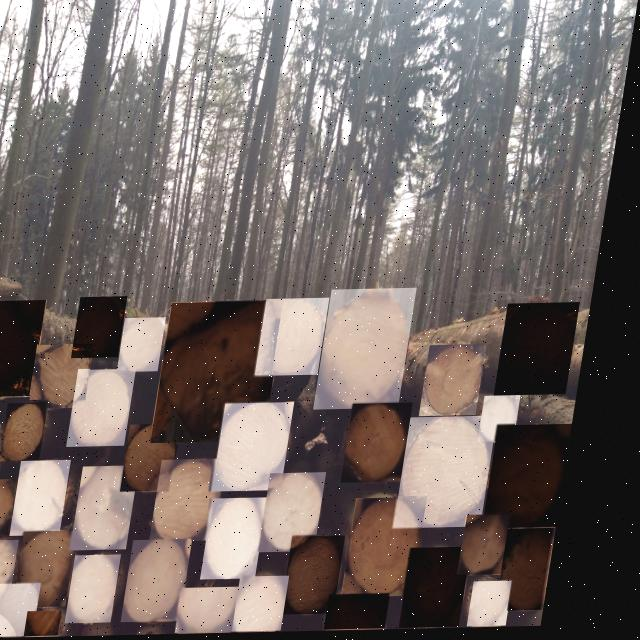wood-log: (174, 303, 289, 443), (332, 291, 420, 411), (416, 419, 504, 529), (503, 428, 582, 530), (368, 501, 440, 599), (512, 306, 586, 397), (232, 405, 304, 493), (172, 461, 237, 543), (144, 541, 206, 623), (424, 550, 486, 630), (92, 467, 151, 550), (362, 405, 422, 484), (273, 300, 335, 376), (0, 302, 49, 396), (280, 475, 338, 553), (85, 371, 144, 447), (224, 500, 280, 580), (304, 539, 360, 616), (38, 531, 92, 608), (520, 532, 571, 613), (437, 347, 494, 418), (32, 461, 83, 536), (140, 426, 191, 492), (48, 346, 101, 407), (89, 556, 136, 624), (86, 297, 135, 358), (254, 578, 305, 633), (198, 589, 257, 634), (480, 518, 524, 576), (17, 404, 58, 462), (132, 319, 174, 372), (16, 584, 58, 637), (346, 597, 405, 632), (490, 584, 530, 629), (0, 481, 29, 541), (0, 541, 34, 589), (495, 399, 531, 444), (48, 612, 82, 637), (0, 428, 12, 482)
